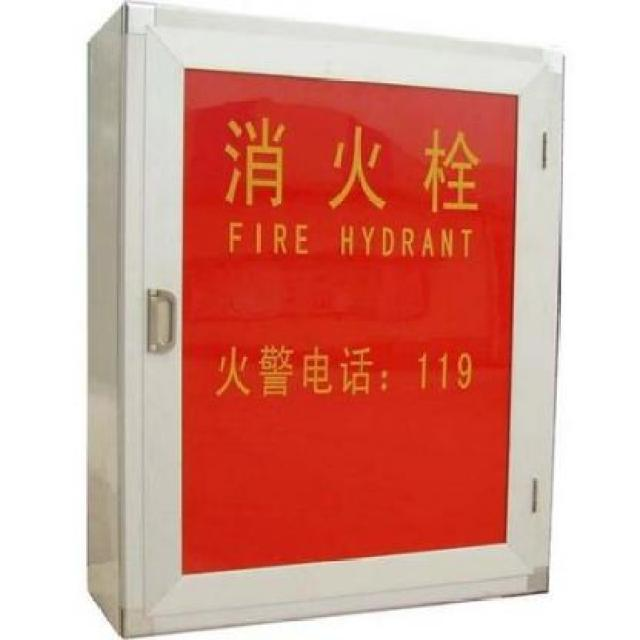firehydrant: (80, 0, 571, 640)
